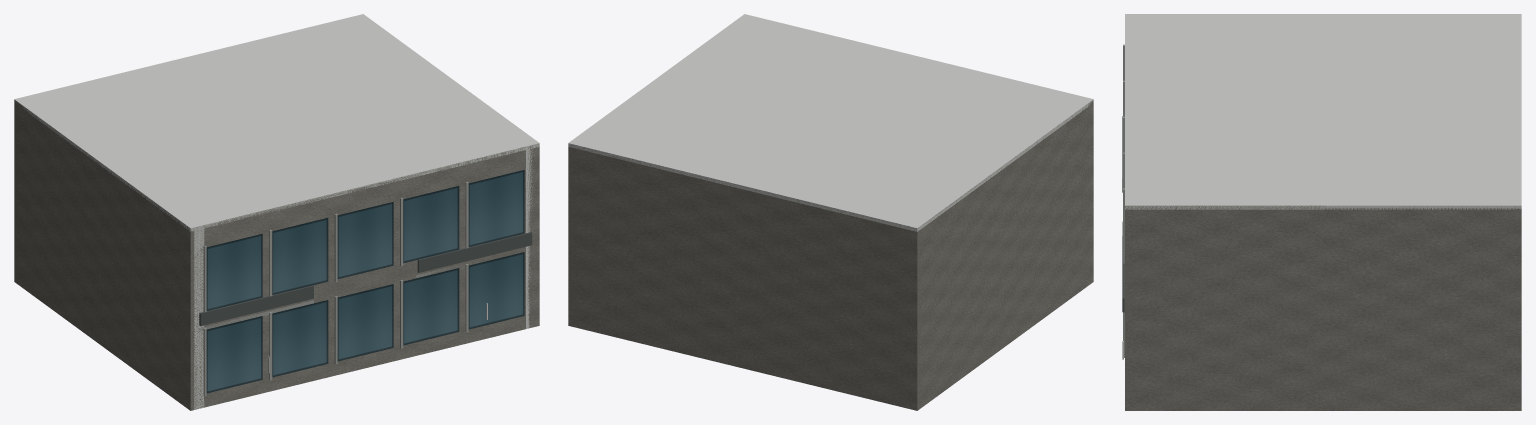
File: urban_shopfront.glb
3 views of the same model, side by side, from view 1: azimuth 30°, elevation 25°; view 2: azimuth 150°, elevation 25°; view 3: azimuth 270°, elevation 25° (orthographic). The views are drawn at different scales.
Parts seen in each view (by area): view 1: UrbanPaleConcrete, UrbanStone, UrbanGlazing, UrbanAnodizedMetal, UrbanRecess; view 2: UrbanStone, UrbanPaleConcrete; view 3: UrbanStone, UrbanPaleConcrete, UrbanAnodizedMetal.
Part boxes in pixels (x1,y1,x2,y2): UrbanPaleConcrete: (14,14,539,409); UrbanStone: (14,100,539,410); UrbanGlazing: (206,170,524,393); UrbanAnodizedMetal: (198,181,468,396); UrbanRecess: (199,232,532,326); UrbanStone: (568,100,1093,410); UrbanPaleConcrete: (568,14,1093,231); UrbanStone: (1125,205,1521,410); UrbanPaleConcrete: (1122,14,1521,359); UrbanAnodizedMetal: (1123,44,1124,357).
Bounding box in the file's own units: 16 × 8 × 14.1.
5 materials, 2 textured.
